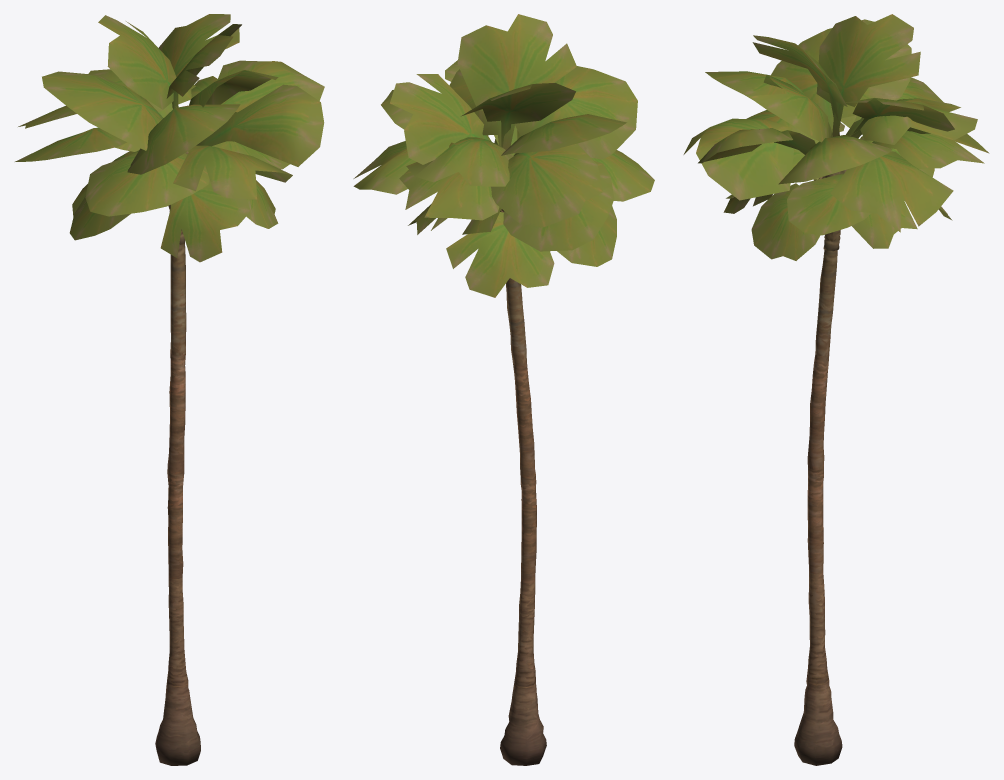
Rendered from SM_Custom_HeraPalm.fbx.
3 views of the same model, side by side, from view 1: azimuth 30°, elevation 25°; view 2: azimuth 150°, elevation 25°; view 3: azimuth 270°, elevation 25° (orthographic). The views are drawn at different scales.
Visible parts, largest first — view 1: SM_Custom_HeraPalm; view 2: SM_Custom_HeraPalm; view 3: SM_Custom_HeraPalm.
Part boxes in pixels (x1,y1,x2,y2): SM_Custom_HeraPalm: (15,14,324,765); SM_Custom_HeraPalm: (353,14,654,765); SM_Custom_HeraPalm: (683,14,989,765).
Bounding box in the file's own units: 1185 × 1216 × 3244.
